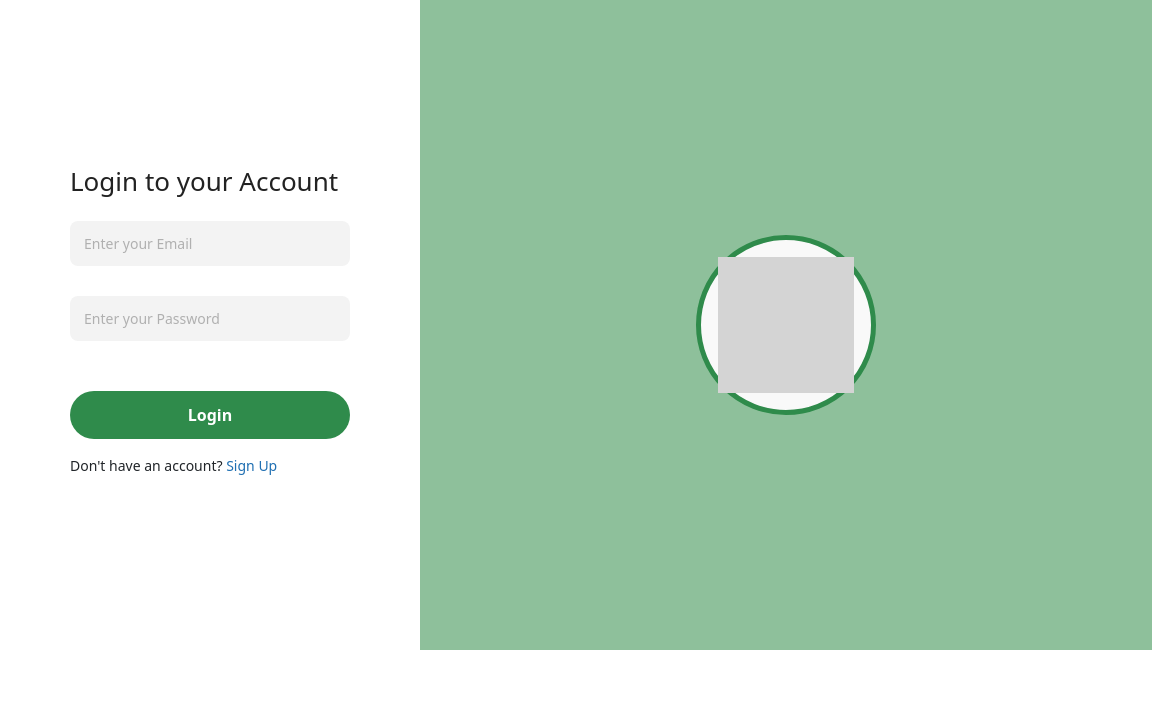
Login Component Tests › Check if validation error appears for empty submit
This screenshot has width=1152, height=720.
Click the button "Login" at point(210, 415), box [70,391,350,439]
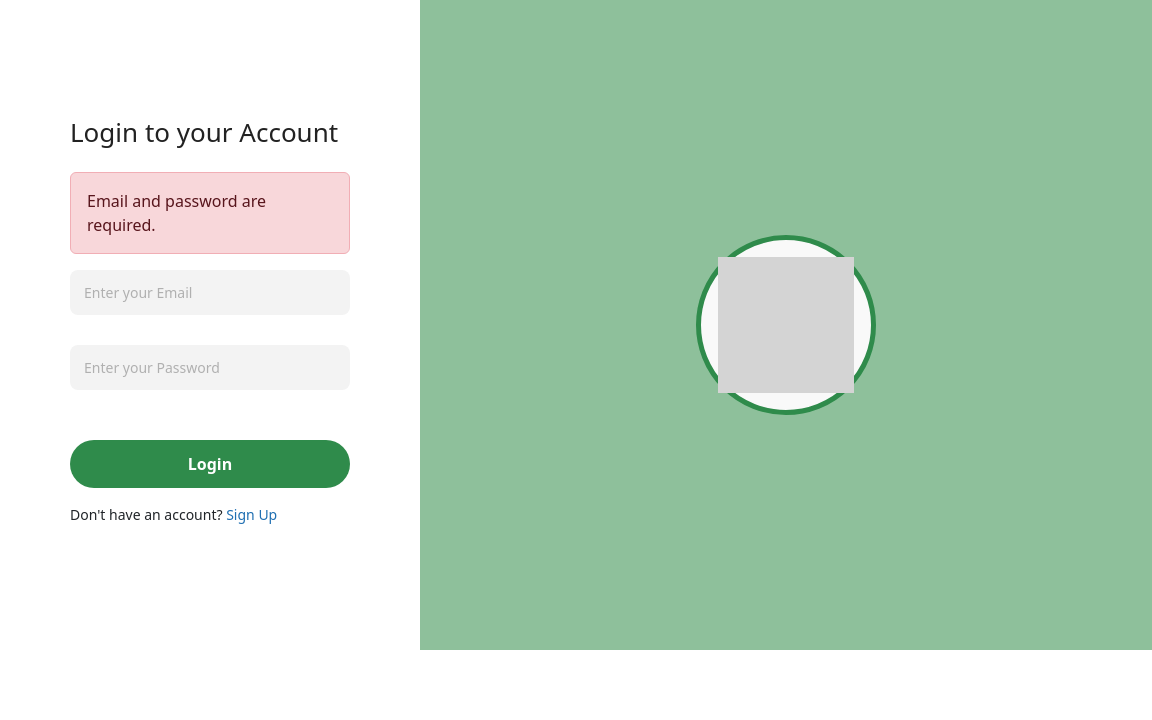
Expected: the text "Email and password are required." is shown, [70,172,350,254]
